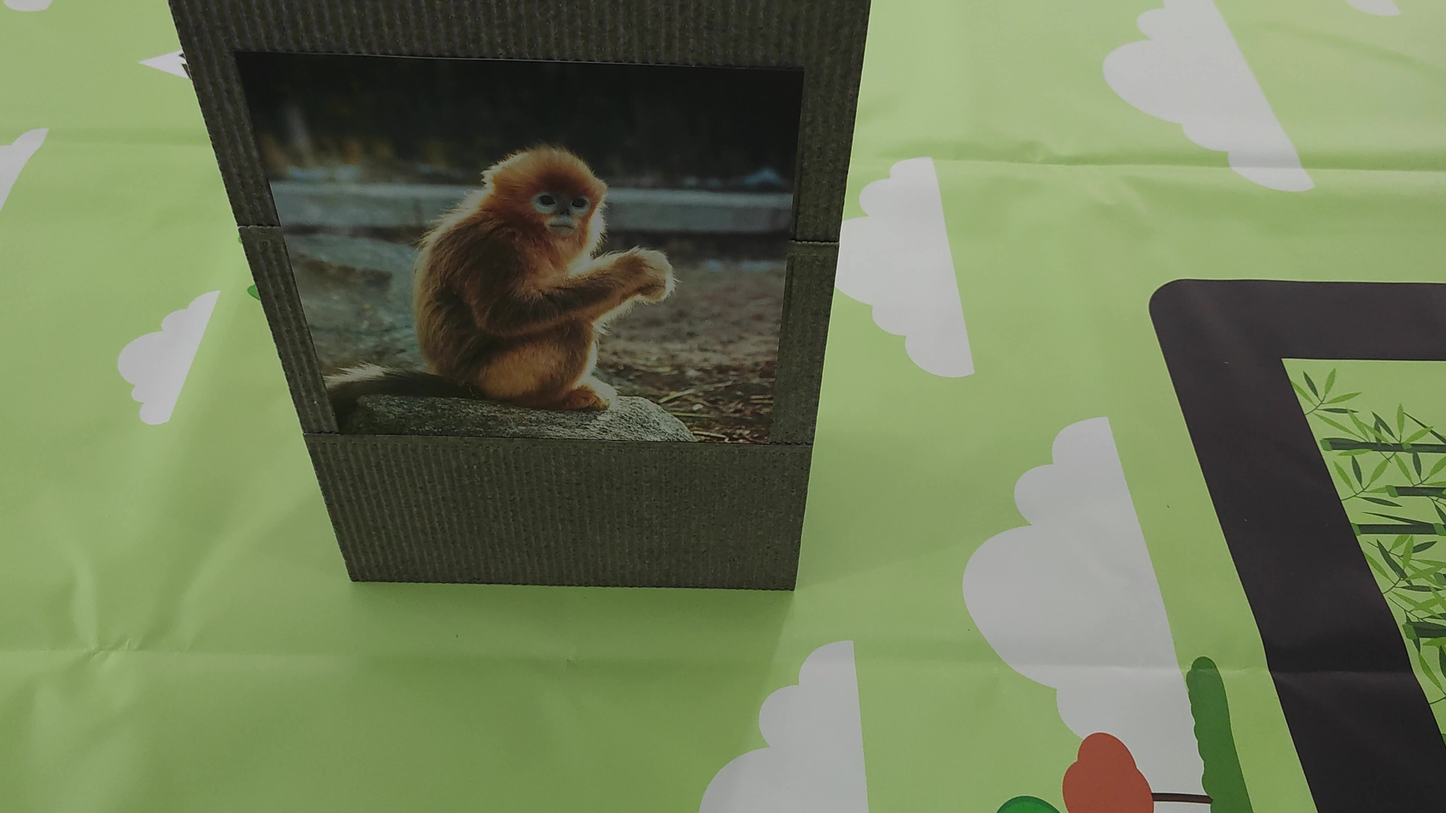monkey: (377, 117, 722, 435)
